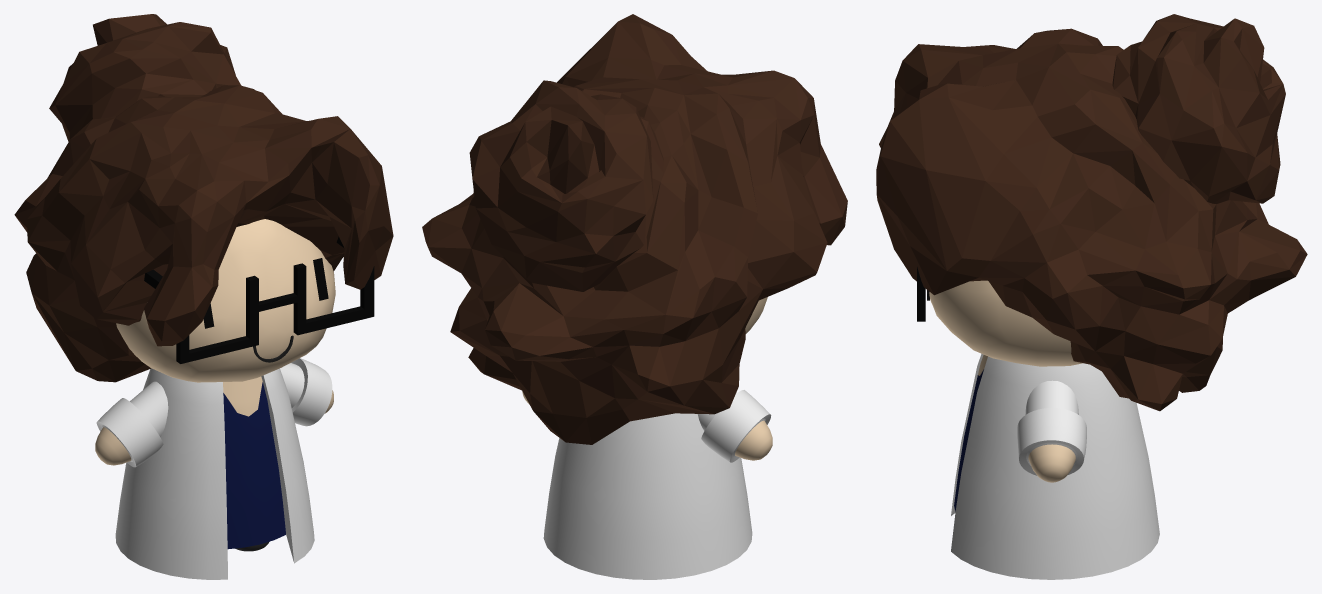
Rendered from teacher.glb.
3 views of the same model, side by side, from view 1: azimuth 30°, elevation 25°; view 2: azimuth 150°, elevation 25°; view 3: azimuth 270°, elevation 25° (orthographic). The views are drawn at different scales.
Visible parts, largest first — view 1: Sphere.001, Cylinder, Sphere, Plane, RightArm, Left Arm; view 2: Sphere.001, Cylinder, RightArm; view 3: Sphere.001, Cylinder, Sphere, Left Arm.
Boxes of the visible parts, x1=… form: Sphere.001: x1=14, y1=14, x2=393, y2=382; Cylinder: x1=115, y1=368, x2=314, y2=579; Sphere: x1=116, y1=219, x2=335, y2=382; Plane: x1=144, y1=236, x2=374, y2=363; RightArm: x1=95, y1=381, x2=168, y2=467; Left Arm: x1=280, y1=358, x2=333, y2=426; Sphere.001: x1=422, y1=14, x2=847, y2=444; Cylinder: x1=543, y1=413, x2=752, y2=579; RightArm: x1=697, y1=390, x2=772, y2=462; Sphere.001: x1=876, y1=14, x2=1307, y2=411; Cylinder: x1=951, y1=353, x2=1159, y2=579; Sphere: x1=926, y1=280, x2=1082, y2=366; Left Arm: x1=1017, y1=380, x2=1086, y2=482.
Bounding box in the file's own units: 1.52 × 2.28 × 1.7.
